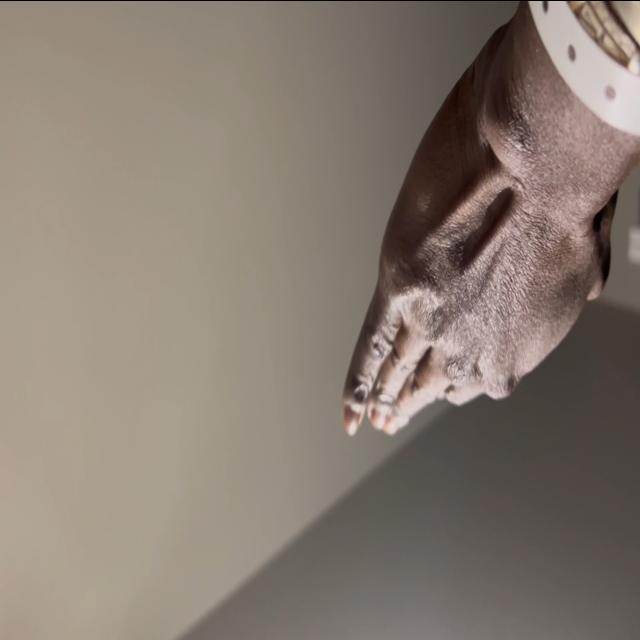Paper: (340, 34, 612, 450)
